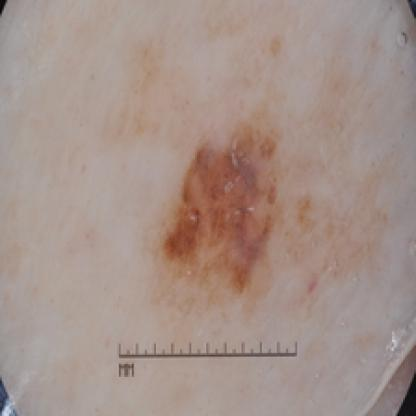malignant: (165, 134, 312, 304)
